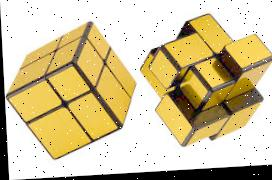cube: (2, 22, 138, 162)
